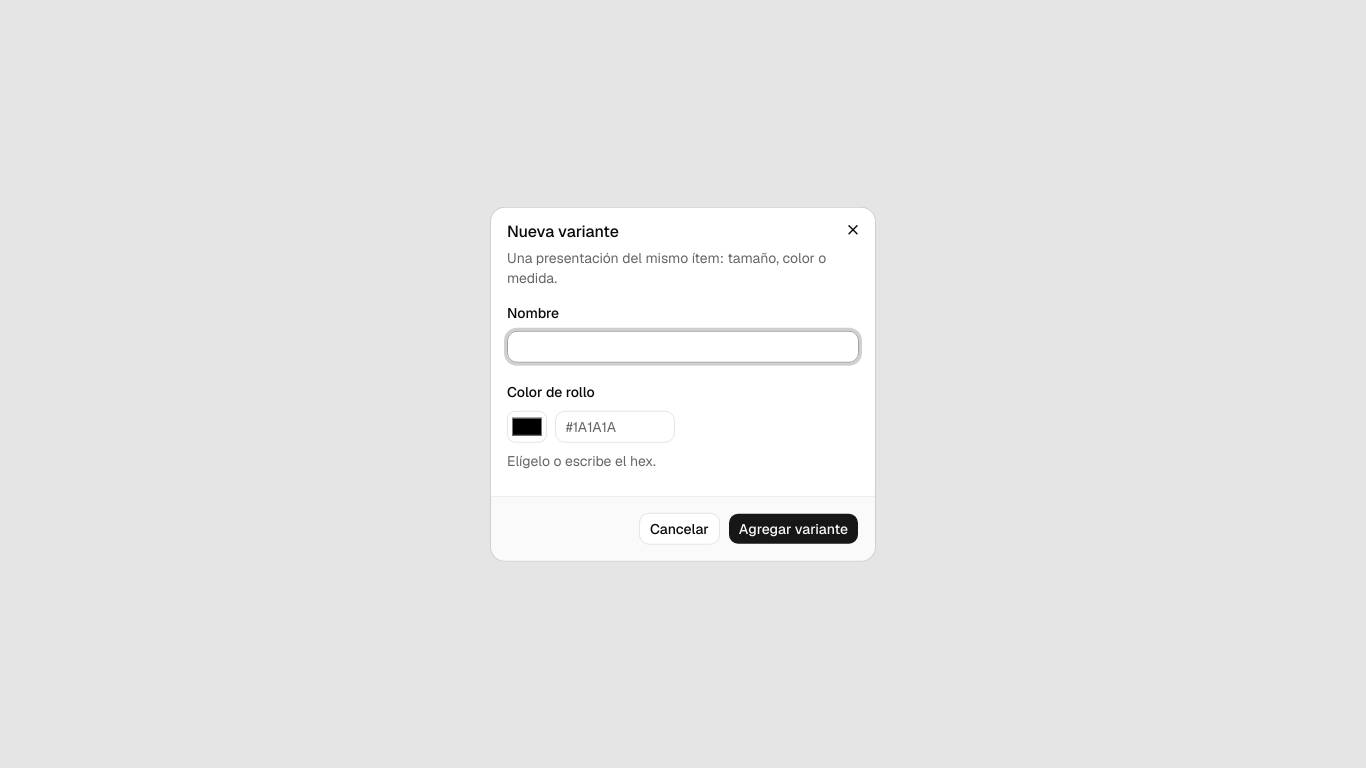
Scenario: VariantFormDialog · color › elegir con el selector llena el campo de hex
In the colour field named "Elegir Color de rollo": (527, 426) left=507, top=410, right=547, bottom=442, type "#1a1a1a"
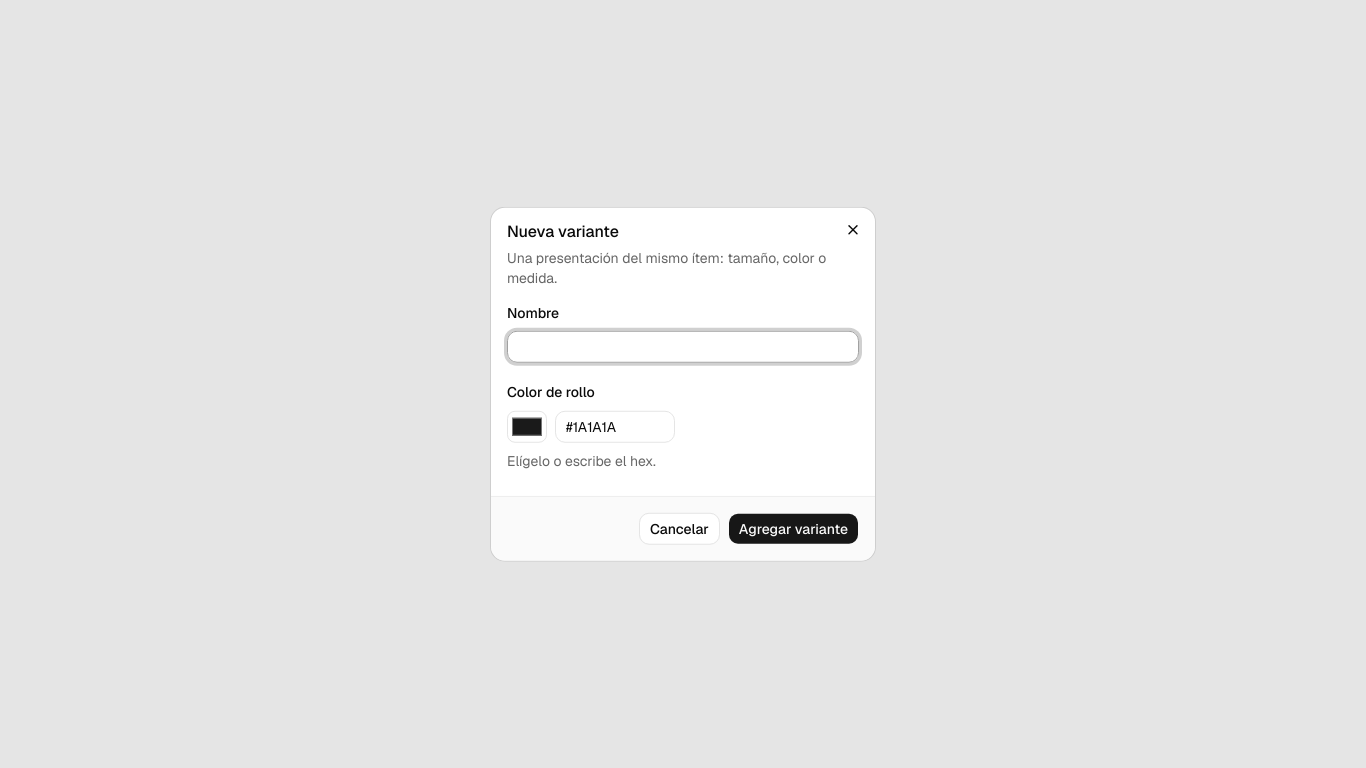
Result: the field labelled "Color de rollo" holds "#1A1A1A" at left=555, top=410, right=675, bottom=442
